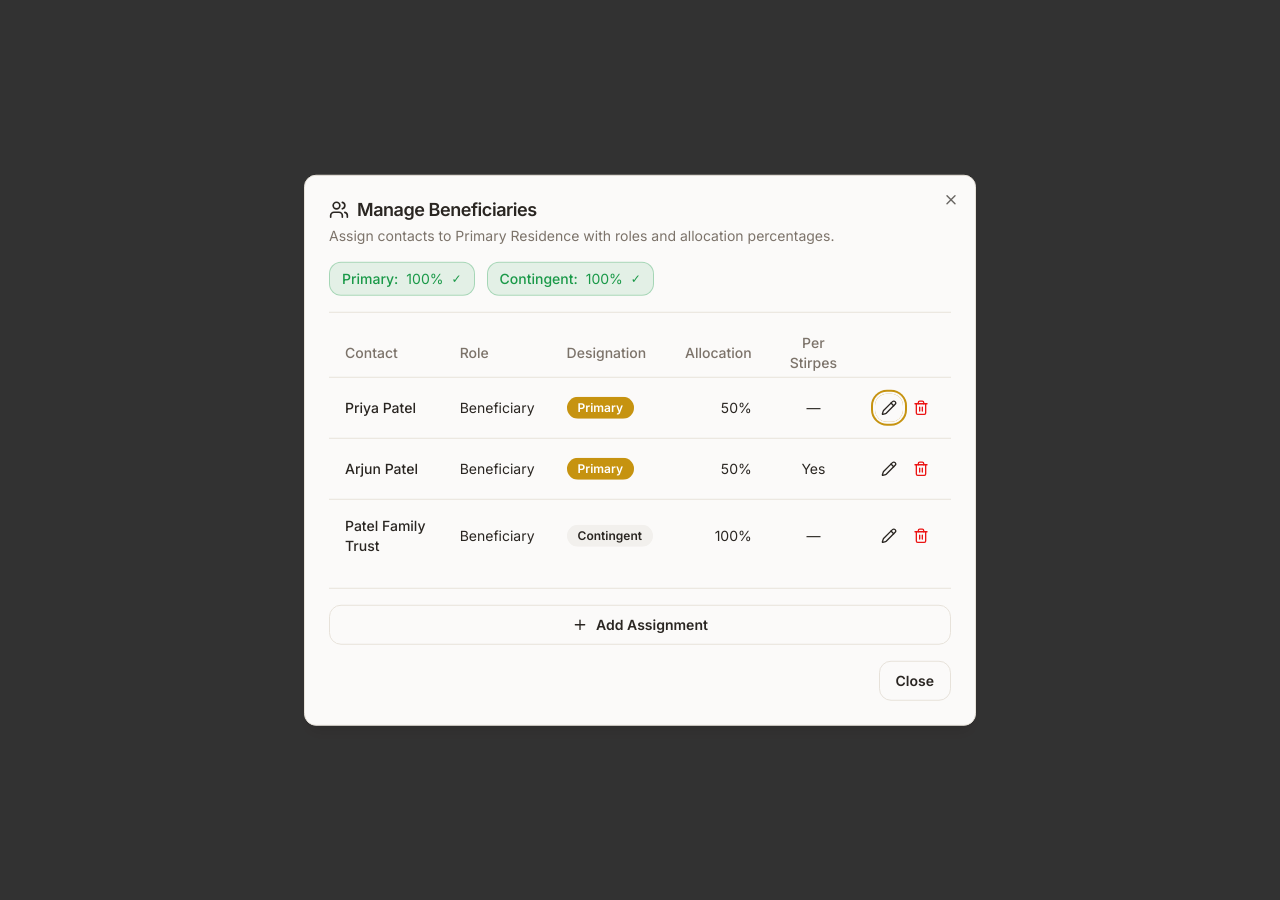
Test: BeneficiaryAssignmentDialog — Multiple Links › shows no available contacts in add form when all are assigned
This screenshot has width=1280, height=900.
Click the button "Add Assignment": (640, 624) [329,604,951,644]
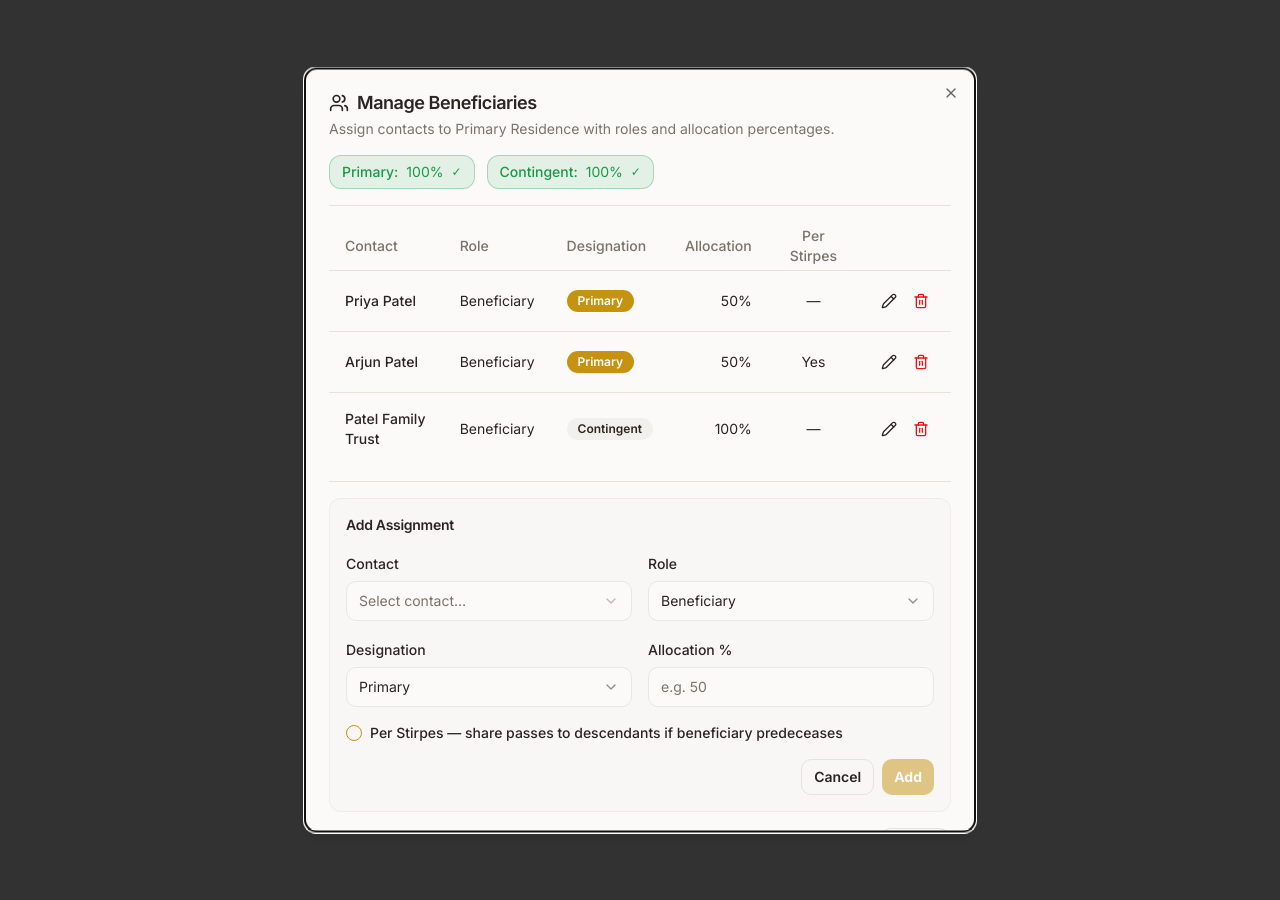
Click the dropdown "Select contact…": (413, 600) [346,580,632,620]
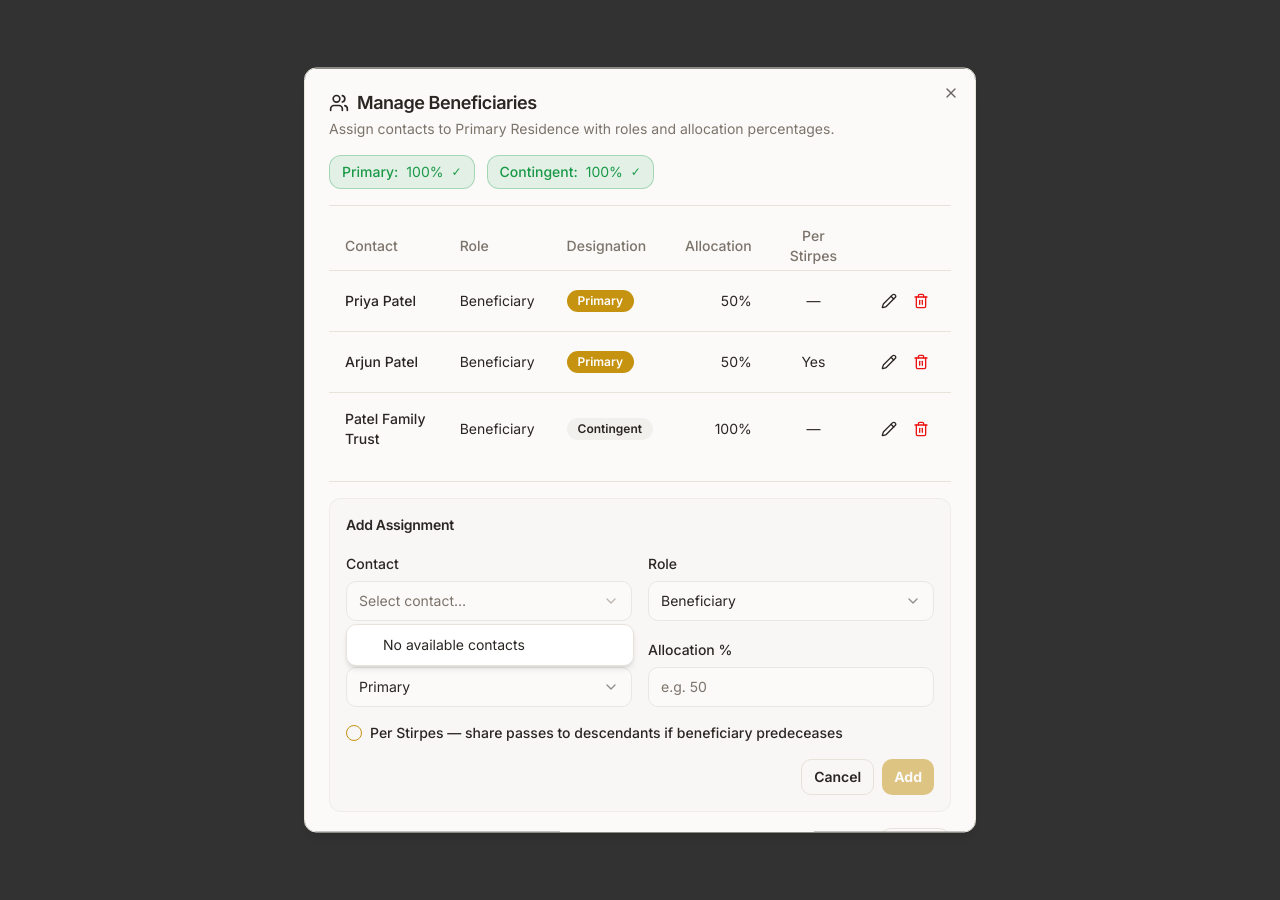
Expected: the text "No available contacts" is shown, [383,635,525,655]
